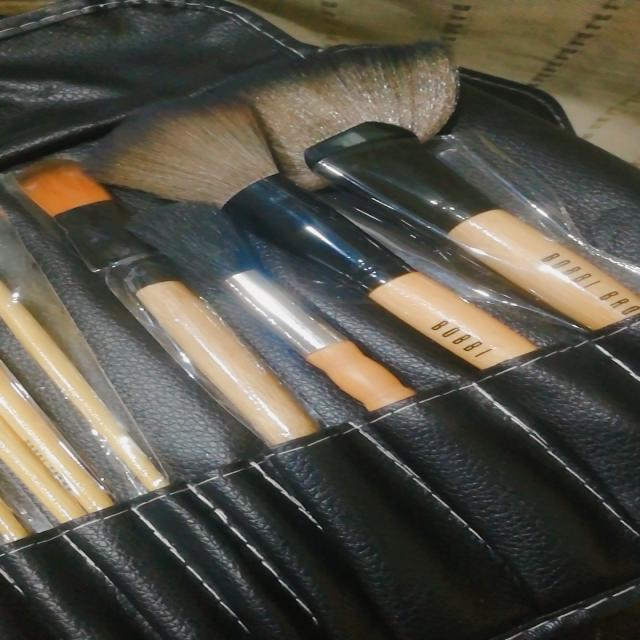brush: (241, 35, 640, 309), (72, 82, 303, 245), (0, 141, 139, 339)
